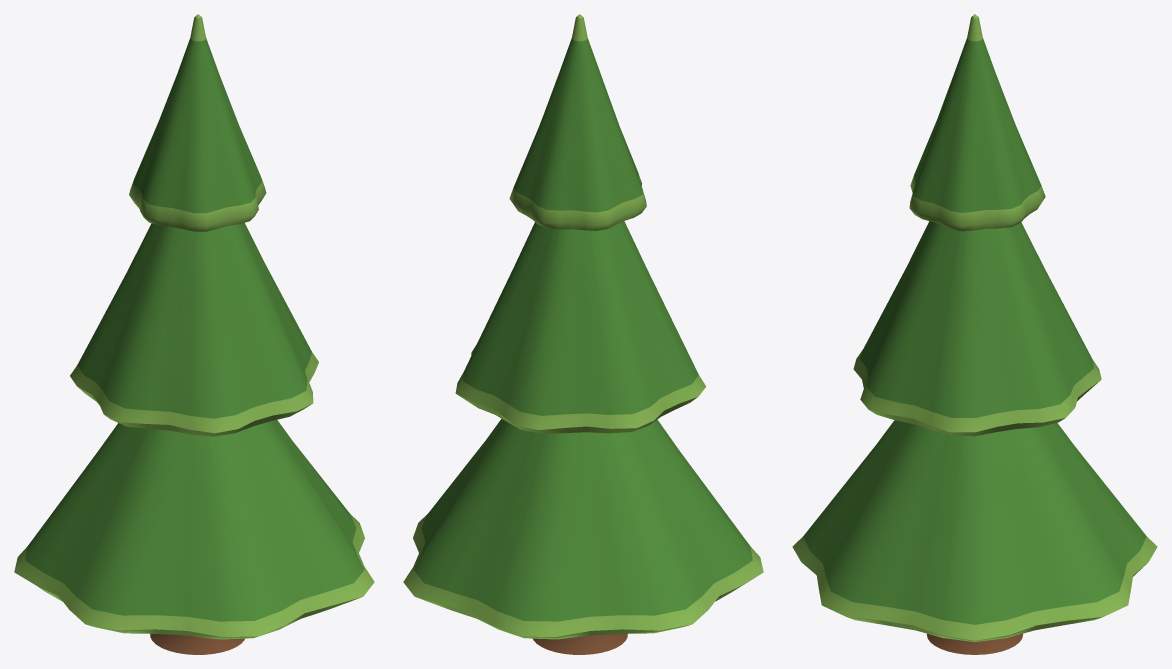
Rendered from PineTree_11.glb.
3 views of the same model, side by side, from view 1: azimuth 30°, elevation 25°; view 2: azimuth 150°, elevation 25°; view 3: azimuth 270°, elevation 25° (orthographic).
Visible parts, largest first — view 1: PineTree_11; view 2: PineTree_11; view 3: PineTree_11.
Part boxes in pixels (<box>): PineTree_11: <box>14,14,374,654</box>; PineTree_11: <box>403,14,763,654</box>; PineTree_11: <box>792,14,1157,654</box>.
Bounding box in the file's own units: 5.16 × 9.86 × 5.26.
